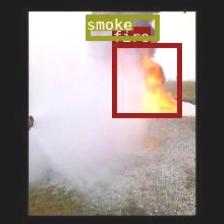fire: (112, 42, 180, 117)
smoke: (85, 14, 158, 40)
